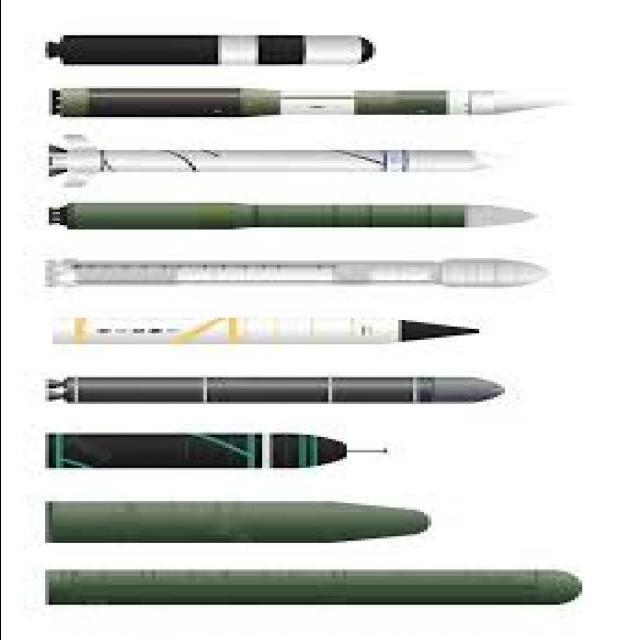missile: (35, 183, 549, 245), (27, 484, 457, 556), (28, 566, 613, 614), (39, 246, 572, 296), (43, 361, 527, 415), (34, 77, 573, 123), (33, 10, 391, 74), (44, 251, 556, 293), (41, 306, 476, 354), (42, 429, 358, 472)
